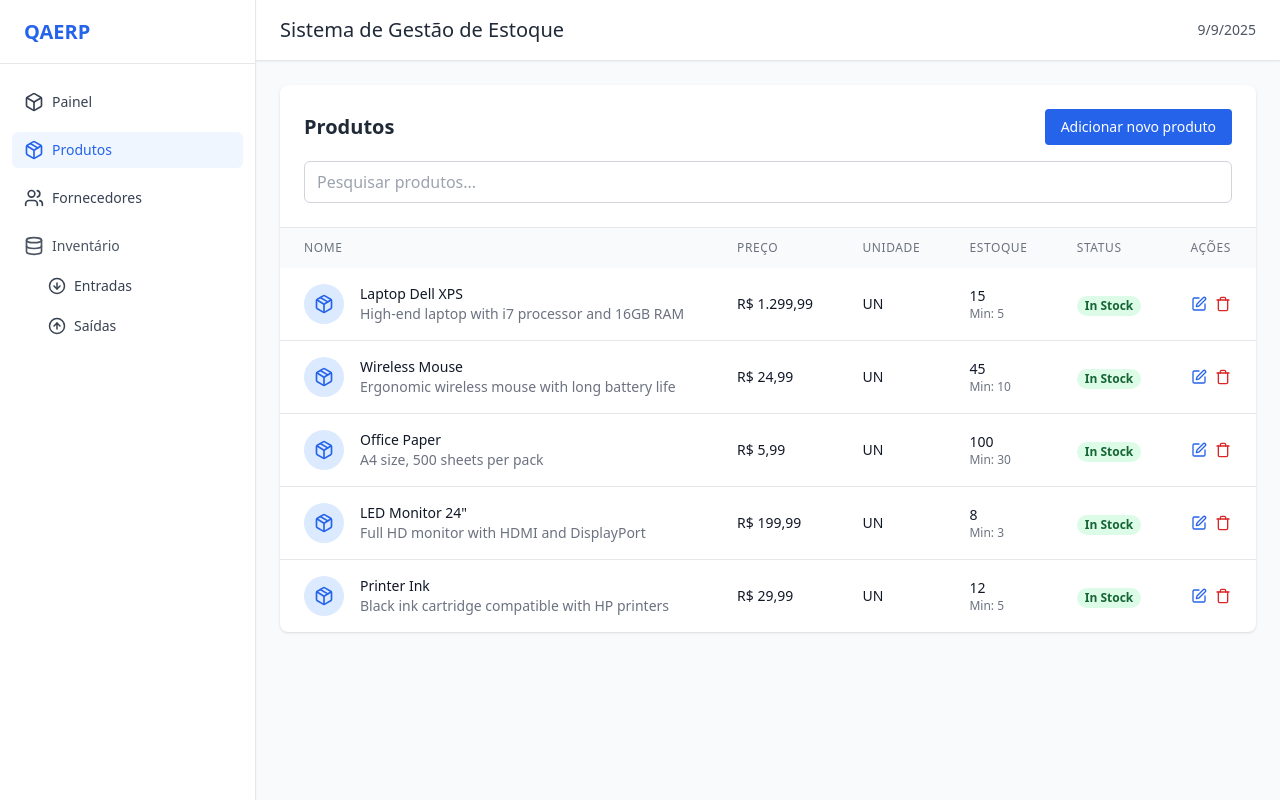
Produtos › Adicionar Produtos › Adicionar produto vazio
Click the button "Adicionar novo produto" at [1139, 127], box [1045, 109, 1232, 145]
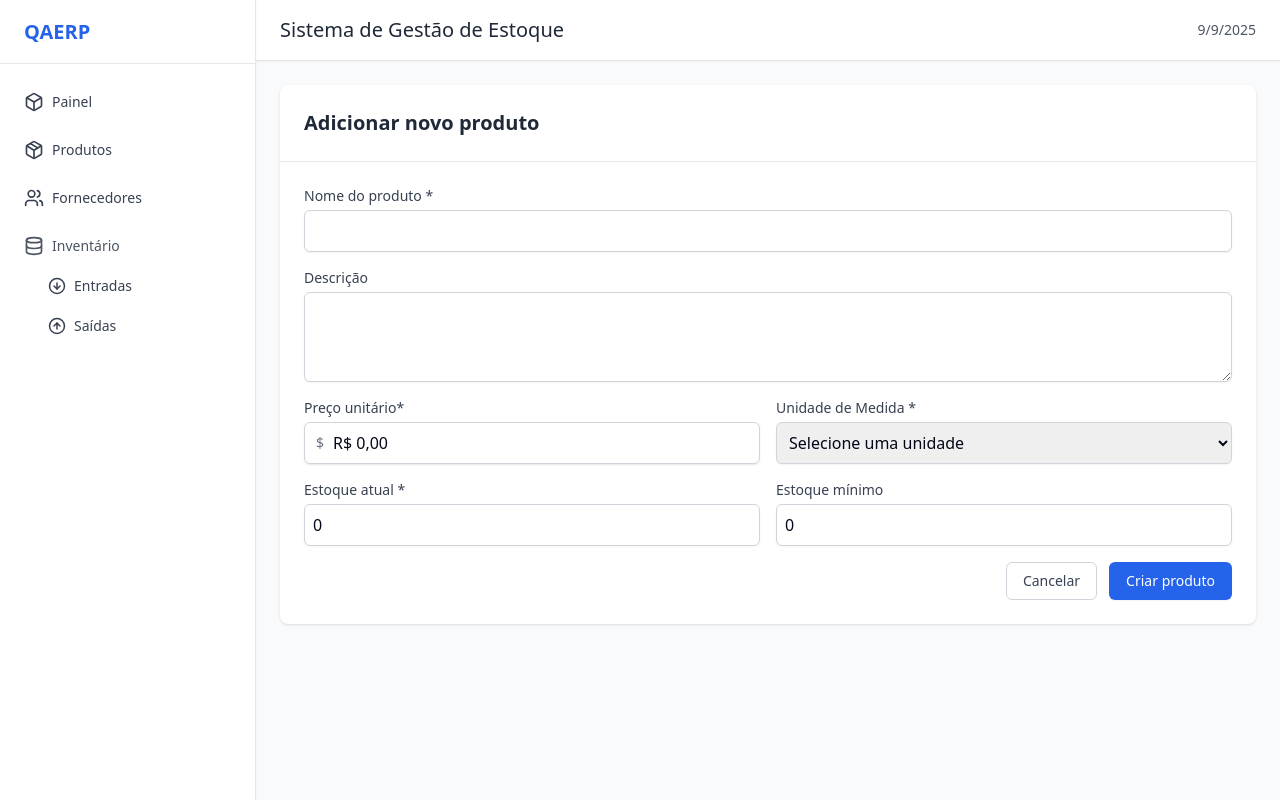
Click the button "Criar produto" at [1171, 581], box [1109, 562, 1232, 600]
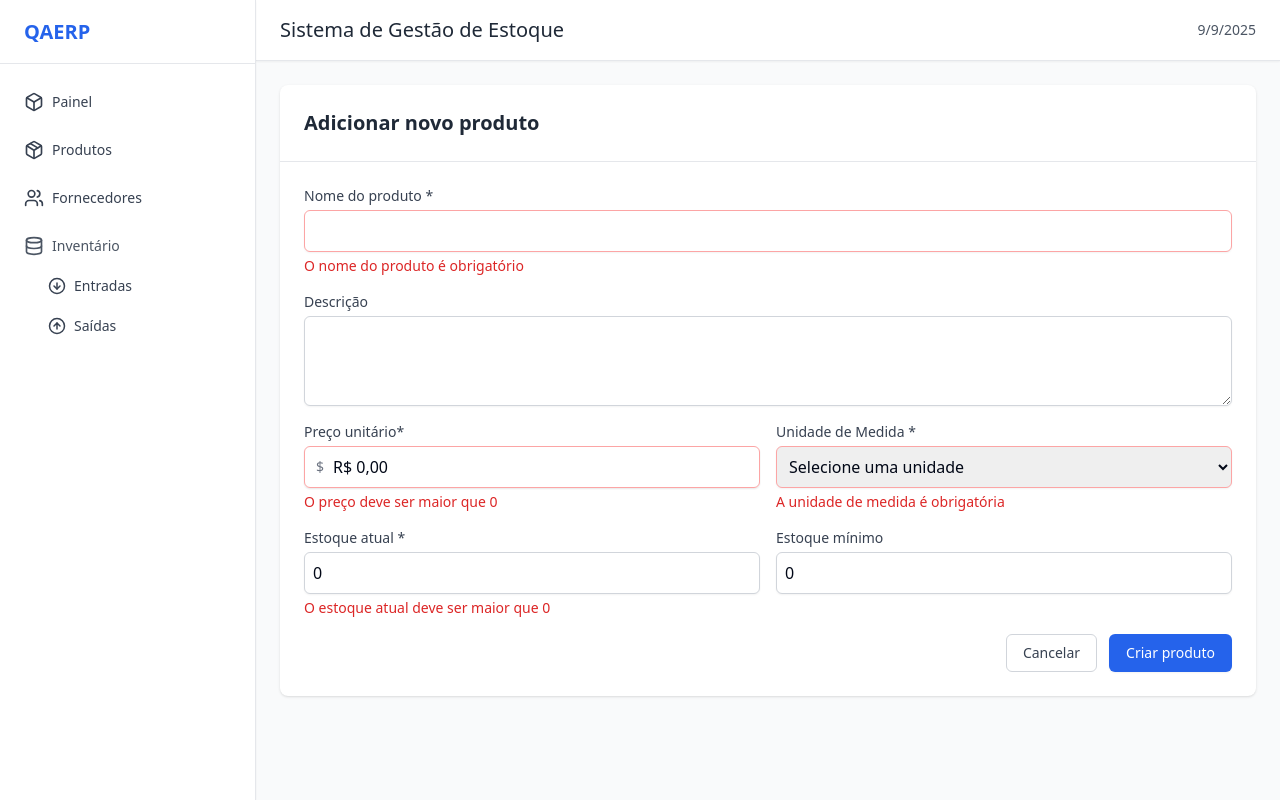
Expected: the text "O nome do produto é obrigatório" is shown, [304, 256, 524, 275]
Expected: the text "O preço deve ser maior que 0" is shown, [304, 492, 498, 511]
Expected: the text "A unidade de medida é obrigatória" is shown, [776, 492, 1005, 511]
